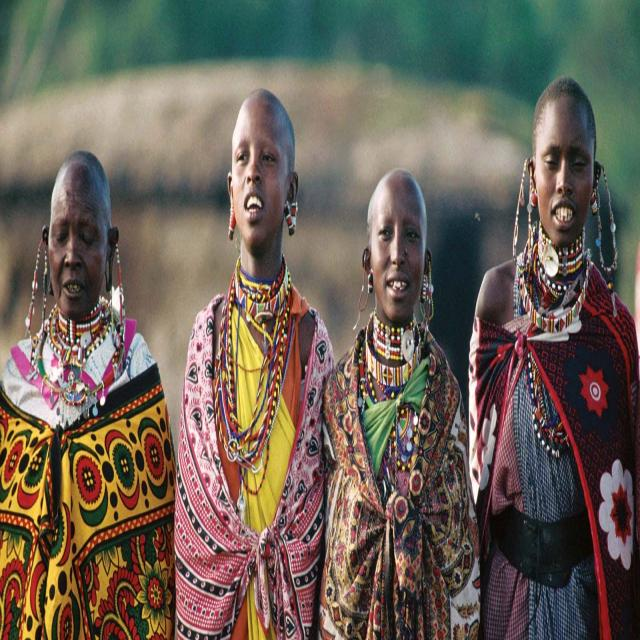adult: (470, 75, 640, 640), (0, 144, 176, 640), (173, 86, 328, 640), (323, 162, 477, 640)
